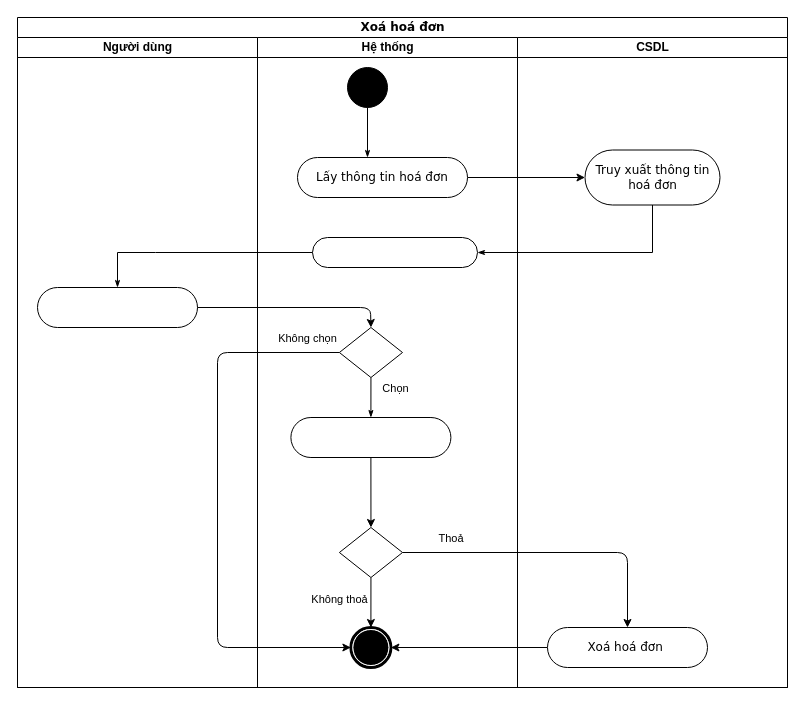
This 805x705 diagram has some shape labels left out. Here are the shapes that lost their labels. From the top down, the centre of each, then its label:
At point (395, 252): "Hiển thị thông tin hoá đơn".
At point (117, 307): "Chọn xoá hoá đơn".
At point (370, 437): "Kiểm tra điều kiện xoá hoá đơn".
